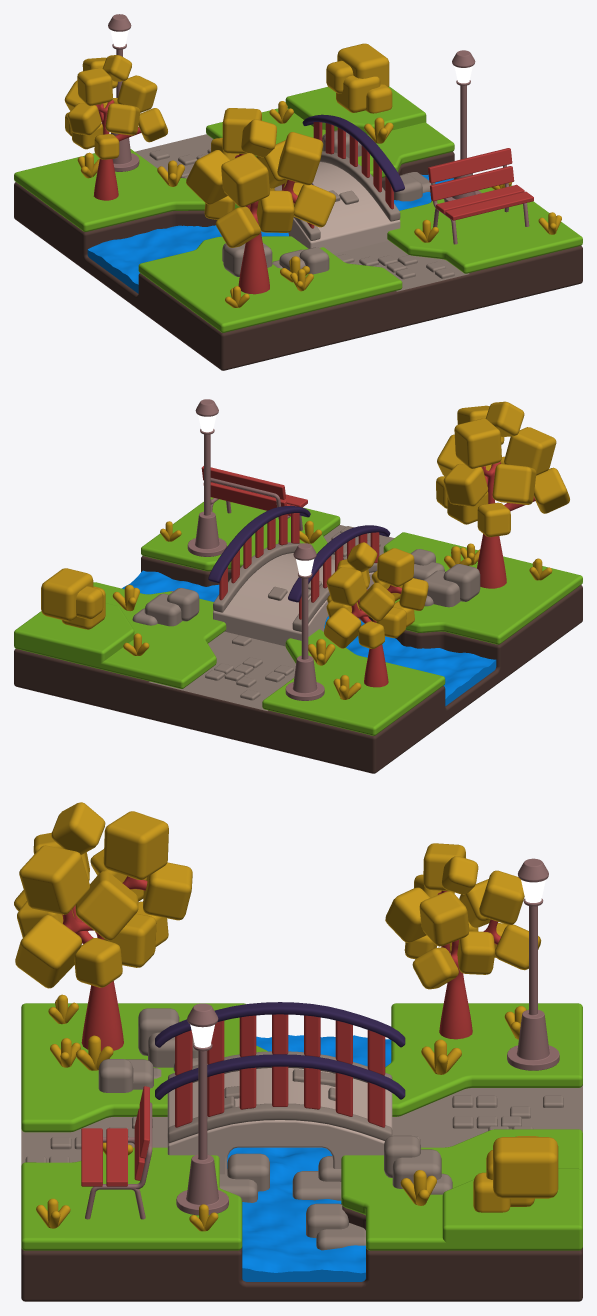
Rendered from park2.glb.
3 renders of one model, top to bottom at view 1: azimuth 30°, elevation 25°; view 2: azimuth 150°, elevation 25°; view 3: azimuth 270°, elevation 25°, orthographic. The views are drawn at different scales.
Parts seen in each view (by area): view 1: Grass.001, Ground, Cube.002, Rock.004, Bench, Bridge, Plane, Grass.005, Path, Grass.002, Lamp.001, Tile.017 (+5 smaller); view 2: Grass.001, Ground, Cube.002, Rock.004, Bridge, Plane, Lamp.001, Path, Grass.002, Grass.005, Plane.002, Plane.003 (+5 smaller); view 3: Grass.001, Cube.002, Ground, Rock.004, Plane, Plane.002, Path, Bridge, Lamp.001, Grass.002, Plane.003, Grass.005 (+5 smaller).
Boxes of the visible parts, x1=… form: Grass.001: x1=14, y1=108, x2=582, y2=332; Ground: x1=14, y1=151, x2=582, y2=370; Cube.002: x1=64, y1=55, x2=335, y2=247; Rock.004: x1=222, y1=43, x2=431, y2=276; Bench: x1=428, y1=148, x2=533, y2=220; Bridge: x1=288, y1=162, x2=400, y2=253; Plane: x1=87, y1=174, x2=453, y2=293; Grass.005: x1=77, y1=101, x2=561, y2=307; Path: x1=135, y1=134, x2=469, y2=291; Grass.002: x1=285, y1=86, x2=426, y2=134; Lamp.001: x1=108, y1=14, x2=481, y2=201; Tile.017: x1=149, y1=148, x2=454, y2=279; Grass.001: x1=15, y1=497, x2=582, y2=735; Ground: x1=14, y1=556, x2=582, y2=773; Cube.002: x1=324, y1=401, x2=569, y2=648; Rock.004: x1=41, y1=549, x2=480, y2=629; Bridge: x1=213, y1=553, x2=373, y2=646; Plane: x1=122, y1=570, x2=496, y2=706; Lamp.001: x1=187, y1=399, x2=324, y2=700; Path: x1=149, y1=525, x2=394, y2=710; Grass.002: x1=14, y1=603, x2=134, y2=668; Grass.005: x1=112, y1=502, x2=552, y2=699; Plane.002: x1=219, y1=513, x2=379, y2=619; Plane.003: x1=208, y1=505, x2=390, y2=602; Grass.001: x1=21, y1=1003, x2=582, y2=1250; Cube.002: x1=14, y1=802, x2=541, y2=989; Ground: x1=21, y1=1084, x2=582, y2=1301; Rock.004: x1=98, y1=1008, x2=558, y2=1250; Plane: x1=227, y1=1035, x2=391, y2=1281; Plane.002: x1=175, y1=1014, x2=385, y2=1127; Path: x1=21, y1=1085, x2=582, y2=1165; Bridge: x1=167, y1=1068, x2=392, y2=1174; Lamp.001: x1=176, y1=858, x2=559, y2=1215; Grass.002: x1=442, y1=1168, x2=582, y2=1250; Plane.003: x1=155, y1=1002, x2=405, y2=1099; Grass.005: x1=36, y1=994, x2=526, y2=1231.
Size of what is drawn, in the model's own units: 8 by 4.95 by 8.1.
